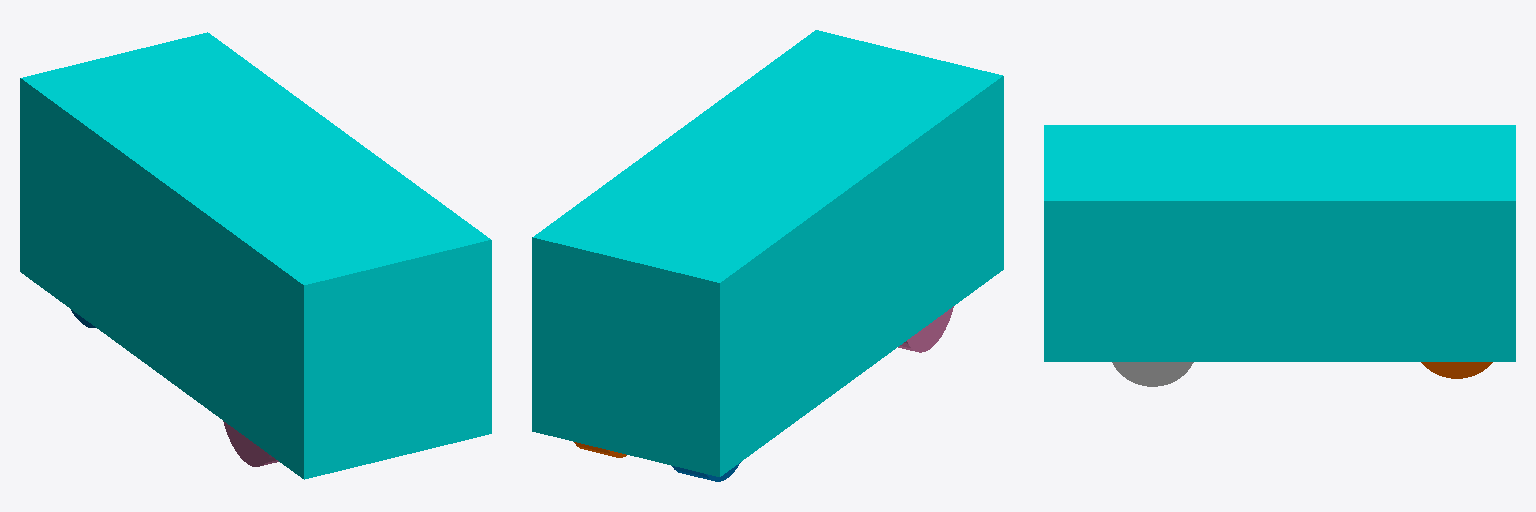
The robot description file, URDF, robot "vehicle":
<?xml version="1.0"?>

<!-- note: if inertia values are set to 0, bullet will re-compute our inertias for us-->
<robot xmlns:xacro="http://ros.org/wiki/xacro" name="vehicle">
  <link name="base_link">
    <inertial>
      <mass value="1"/>
      <inertia ixx="0" ixy="0" ixz="0" iyy="0" iyz="0" izz="0"/>
    </inertial>
  </link>
  <link name="chassis">
    <visual>
      <origin xyz="0.0 0.0 1.3" rpy="0 0 0"/>
      <geometry>
        <box size="1.91 5.0 1.89"/>
      </geometry>
	  <material name="Cyan1">
	    <color rgba="0 0.9 0.9 0.3"/>
	  </material>
    </visual>
    <collision name="chassis">
      <origin xyz="0.0 0.0 1.3" rpy="0 0 0"/>
      <geometry>
        <box size="1.91 5.0 1.89"/>
      </geometry>
    </collision>
    <inertial>
      <mass value="3000.0"/>
      <origin xyz="0 -0.1 0.20" rpy="0 0 1.5708"/>
      <inertia ixx="27380" ixy="0.0" ixz="0.0" iyy="5300" iyz="0.0" izz="26920"/>
    </inertial>
  </link>
  <link name="fl_axle">
    <inertial>
      <mass value="5"/>
      <origin xyz="0 0 0"/>
      <inertia ixx="0" ixy="0" ixz="0" iyy="0" iyz="6" izz="0"/>
    </inertial>
  </link>
  <link name="fr_axle">
    <inertial>
      <mass value="5"/>
      <origin xyz="0 0 0"/>
      <inertia ixx="0" ixy="0" ixz="0" iyy="0" iyz="6" izz="0"/>
    </inertial>
  </link>
  <link name="front_left_wheel">
    <inertial>
      <mass value="25"/>
      <origin xyz="0 0 0"/>
      <inertia ixx="0" ixy="0" ixz="0" iyy="0" iyz="0" izz="4"/>
    </inertial>
    <visual>
      <origin rpy="0 1.5707963267948966 0"/>
      <geometry>
        <cylinder length="0.35" radius="0.47"/>
      </geometry>
    </visual>
    <collision name="front_left_wheel_collision">
      <origin rpy="0 1.5707963267948966 0"/>
      <geometry>
        <cylinder length="0.35" radius="0.47"/>
      </geometry>
    </collision>
  </link>
  <link name="front_right_wheel">
    <inertial>
      <mass value="25"/>
      <origin xyz="0 0 0"/>
      <inertia ixx="0" ixy="0" ixz="0" iyy="0" iyz="0" izz="4"/>
    </inertial>
    <visual>
      <origin rpy="0 1.5707963267948966 0"/>
      <geometry>
        <cylinder length="0.35" radius="0.47"/>
      </geometry>
    </visual>
    <collision name="front_right_wheel_collision">
      <origin rpy="0 1.5707963267948966 0"/>
      <geometry>
        <cylinder length="0.35" radius="0.47"/>
      </geometry>
    </collision>
  </link>
  <link name="rear_left_wheel">
    <inertial>
      <mass value="25"/>
      <origin xyz="0 0 0"/>
      <inertia ixx="0" ixy="0" ixz="0" iyy="0" iyz="0" izz="4"/>
    </inertial>
    <visual>
      <origin rpy="0 1.5707963267948966 0"/>
      <geometry>
        <cylinder length="0.35" radius="0.47"/>
      </geometry>
    </visual>
    <collision name="rear_left_wheel_collision">
      <origin rpy="0 1.5707963267948966 0"/>
      <geometry>
        <cylinder length="0.35" radius="0.47"/>
      </geometry>
    </collision>
  </link>
  <link name="rear_right_wheel">
    <inertial>
      <mass value="25"/>
      <origin xyz="0 0 0"/>
      <inertia ixx="0" ixy="0" ixz="0" iyy="0" iyz="0" izz="4"/>
    </inertial>
    <visual>
      <origin rpy="0 1.5707963267948966 0"/>
      <geometry>
        <cylinder length="0.35" radius="0.47"/>
      </geometry>
    </visual>
    <collision name="rear_right_wheel_collision">
      <origin rpy="0 1.5707963267948966 0"/>
      <geometry>
        <cylinder length="0.35" radius="0.47"/>
      </geometry>
    </collision>
  </link>
  <joint name="base_link_connection" type="fixed">
    <parent link="base_link"/>
    <child link="chassis"/>
    <origin xyz="0 0 0" rpy="0 0 3.141592653589793"/>
  </joint>
  <joint name="front_left_steer_joint" type="revolute">
    <parent link="chassis"/>
    <child link="fl_axle"/>
    <origin xyz="0.5 -1.88 0.5" rpy="0 0 0"/>
    <axis xyz="0 0 1"/>
    <limit lower="-0.8727" upper="0.8727" effort="10000000" velocity="1000000"/>
  </joint>
  <joint name="front_right_steer_joint" type="revolute">
    <parent link="chassis"/>
    <child link="fr_axle"/>
    <origin xyz="-0.5 -1.88 0.5" rpy="0 0 0"/>
    <axis xyz="0 0 1"/>
    <limit lower="-0.8727" upper="0.8727" effort="10000000" velocity="1000000"/>
  </joint>
  <joint name="front_left_wheel_joint" type="continuous">
    <parent link="fl_axle"/>
    <child link="front_left_wheel"/>
    <origin xyz="0 0 0" rpy="0 0 0"/>
    <axis xyz="1 0 0"/>
  </joint>
  <joint name="front_right_wheel_joint" type="continuous">
    <parent link="fr_axle"/>
    <child link="front_right_wheel"/>
    <origin xyz="0 0 0" rpy="0 0 0"/>
    <axis xyz="1 0 0"/>
  </joint>
  <joint name="rear_left_wheel_joint" type="continuous">
    <parent link="chassis"/>
    <child link="rear_left_wheel"/>
    <origin xyz="0.7 1.35 0.5" rpy="0 0 0"/>
    <axis xyz="1 0 0"/>
  </joint>
  <joint name="rear_right_wheel_joint" type="continuous">
    <parent link="chassis"/>
    <child link="rear_right_wheel"/>
    <origin xyz="-0.7 1.35 0.5" rpy="0 0 0"/> 
    <axis xyz="1 0 0"/>
  </joint>
</robot>

--- Facts derived from the render (not from the file) ---
Views: 3 orthographic renders of the robot side by side, from view 1: azimuth 30°, elevation 25°; view 2: azimuth 150°, elevation 25°; view 3: azimuth 270°, elevation 25°.
Model vehicle with 8 links and 7 joints (2 revolute, 4 continuous, 1 fixed), rooted at base_link, posed every joint at zero.
Links seen in each view (by area): view 1: chassis, rear_left_wheel; view 2: chassis, rear_left_wheel; view 3: chassis, rear_right_wheel, front_right_wheel.
Link boxes in pixels (box(x1,y1,x2,y2)): chassis: box(20, 32, 491, 479); rear_left_wheel: box(223, 421, 278, 466); chassis: box(532, 30, 1003, 476); rear_left_wheel: box(898, 306, 953, 352); chassis: box(1044, 125, 1515, 361); rear_right_wheel: box(1112, 362, 1193, 386); front_right_wheel: box(1421, 362, 1492, 378).
Bounding box of the posed robot: 1.91 × 5 × 2.21 m (x, y, z).
Geometry: primitives only (box / cylinder / sphere), no mesh files.